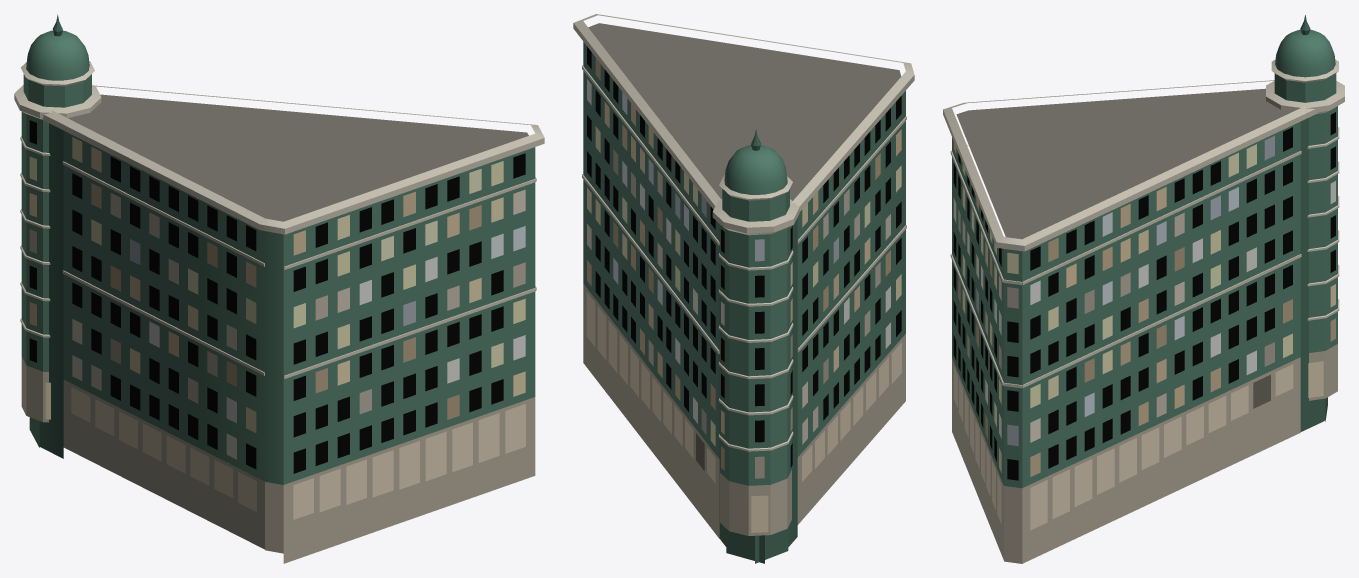
The model's file is columbusTower_lod1.glb.
3 views of the same model, side by side, from view 1: azimuth 30°, elevation 25°; view 2: azimuth 150°, elevation 25°; view 3: azimuth 270°, elevation 25° (orthographic). The views are drawn at different scales.
Parts seen in each view (by area): view 1: L1_paint, L1_stucco, L1_win, L1_roof, L1_shop; view 2: L1_paint, L1_stucco, L1_roof, L1_win, L1_shop; view 3: L1_paint, L1_stucco, L1_win, L1_roof, L1_shop.
Part boxes in pixels (<box>): L1_paint: <box>21,14,536,484</box>; L1_stucco: <box>14,61,544,563</box>; L1_win: <box>29,120,525,473</box>; L1_roof: <box>68,94,528,221</box>; L1_shop: <box>45,382,525,519</box>; L1_paint: <box>582,42,906,485</box>; L1_stucco: <box>573,14,914,563</box>; L1_roof: <box>588,23,901,200</box>; L1_win: <box>587,46,901,478</box>; L1_shop: <box>586,292,901,532</box>; L1_paint: <box>950,15,1337,488</box>; L1_stucco: <box>943,59,1344,563</box>; L1_win: <box>953,112,1335,480</box>; L1_roof: <box>956,88,1292,239</box>; L1_shop: <box>953,361,1323,530</box>.
Size of the model in its own units: 39.91 by 43.7 by 39.7.
